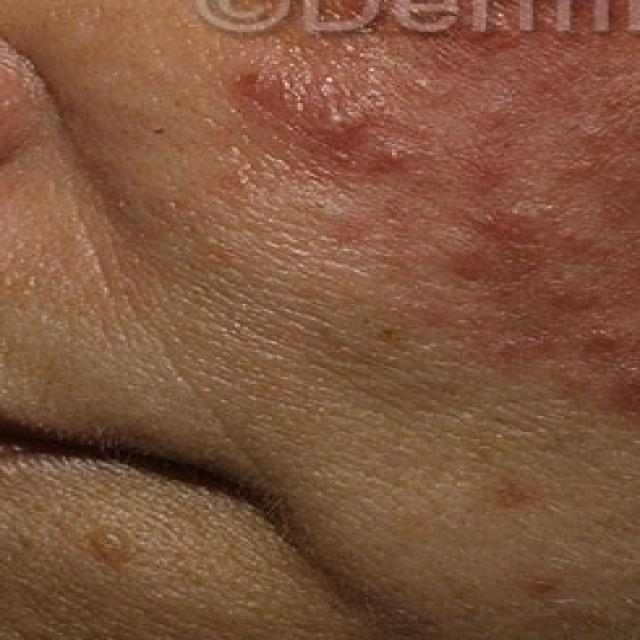Rosacea: (281, 45, 635, 355)
